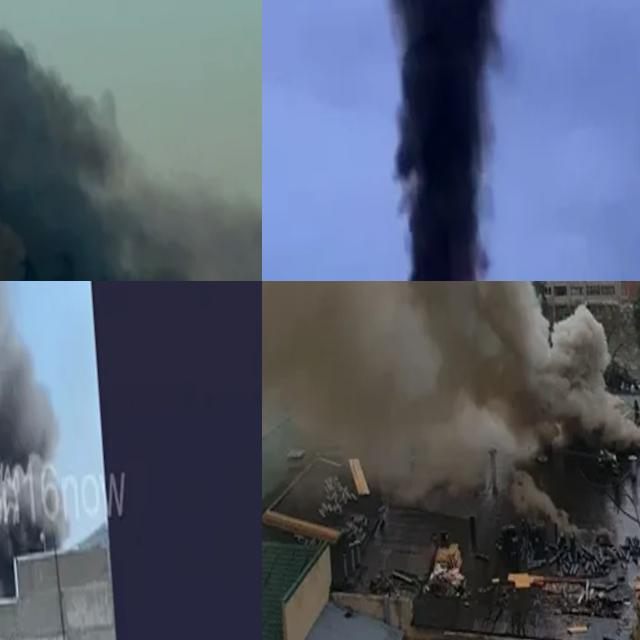smoke: (262, 281, 640, 509), (0, 0, 233, 281), (366, 0, 542, 281), (0, 281, 69, 571)
